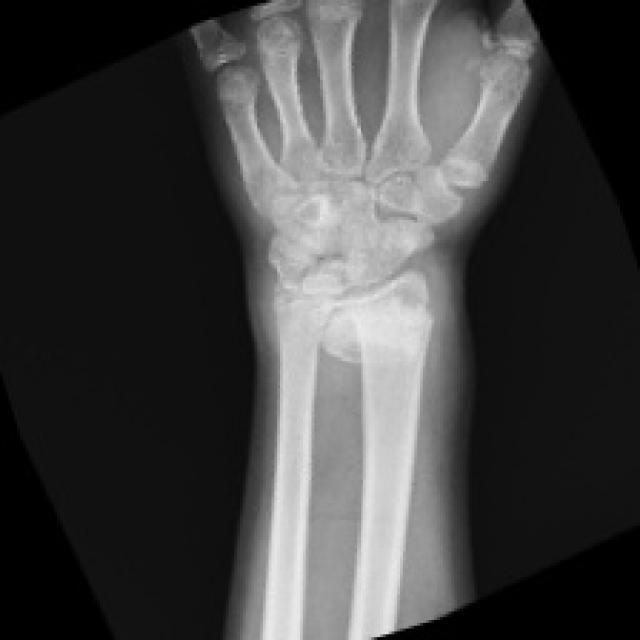fracture: (400, 126, 515, 234), (188, 26, 274, 121)
